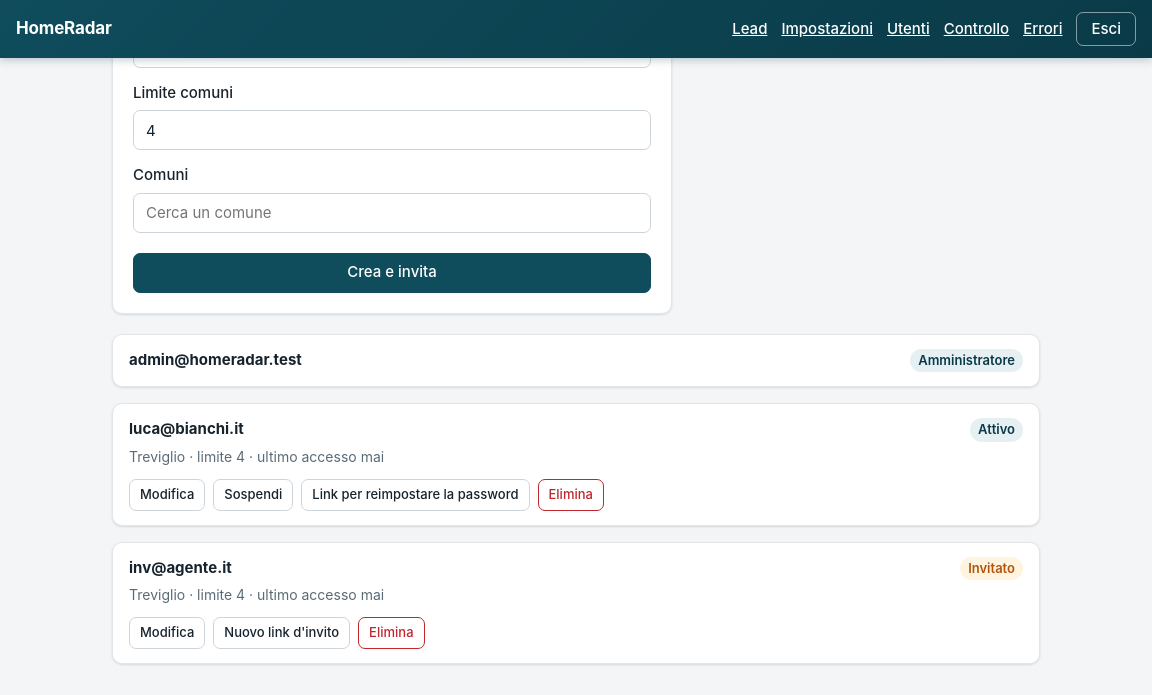
Test: admin utenti › link di reimpostazione per un attivo, nuovo invito per un invitato
(page scrolled)
Click the button "Link per reimpostare la password". click: (415, 494)
box: x1=301 y1=478 x2=530 y2=510
(page scrolled)
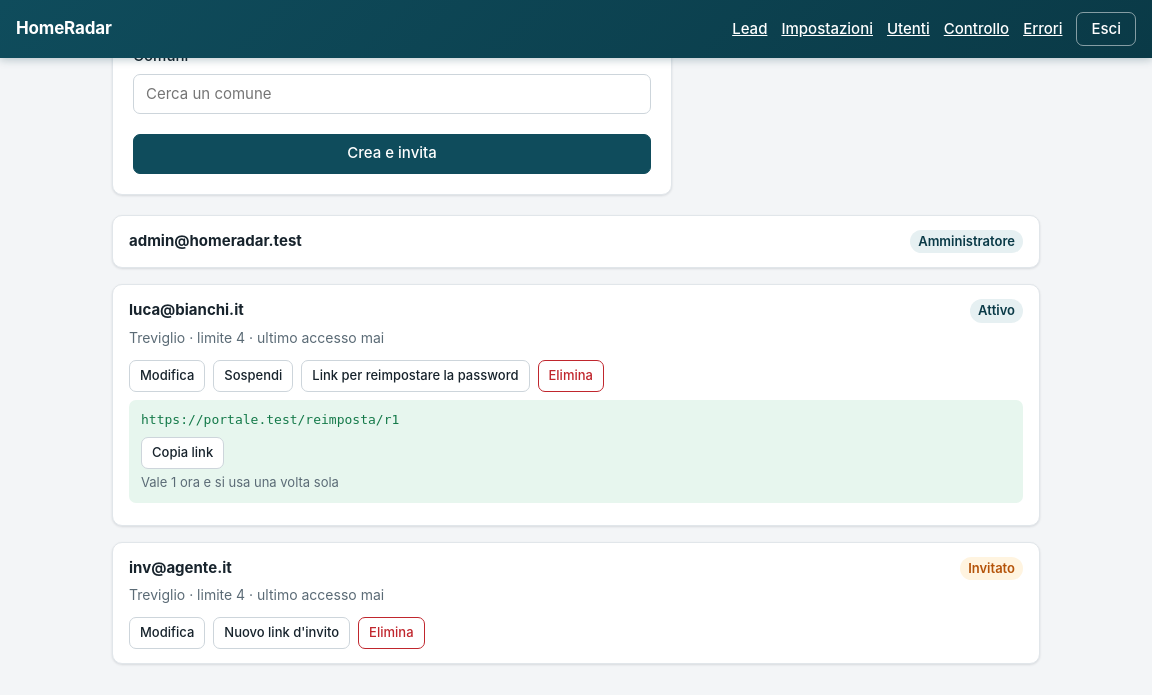
Expected: the text "https://portale.test/reimposta/r1" is shown, x1=141 y1=412 x2=399 y2=426
Expected: the text "Vale 1 ora e si usa una volta sola" is shown, x1=141 y1=474 x2=339 y2=490
Click the button "Nuovo link d'invito". click: (282, 633)
box: x1=213 y1=617 x2=350 y2=649
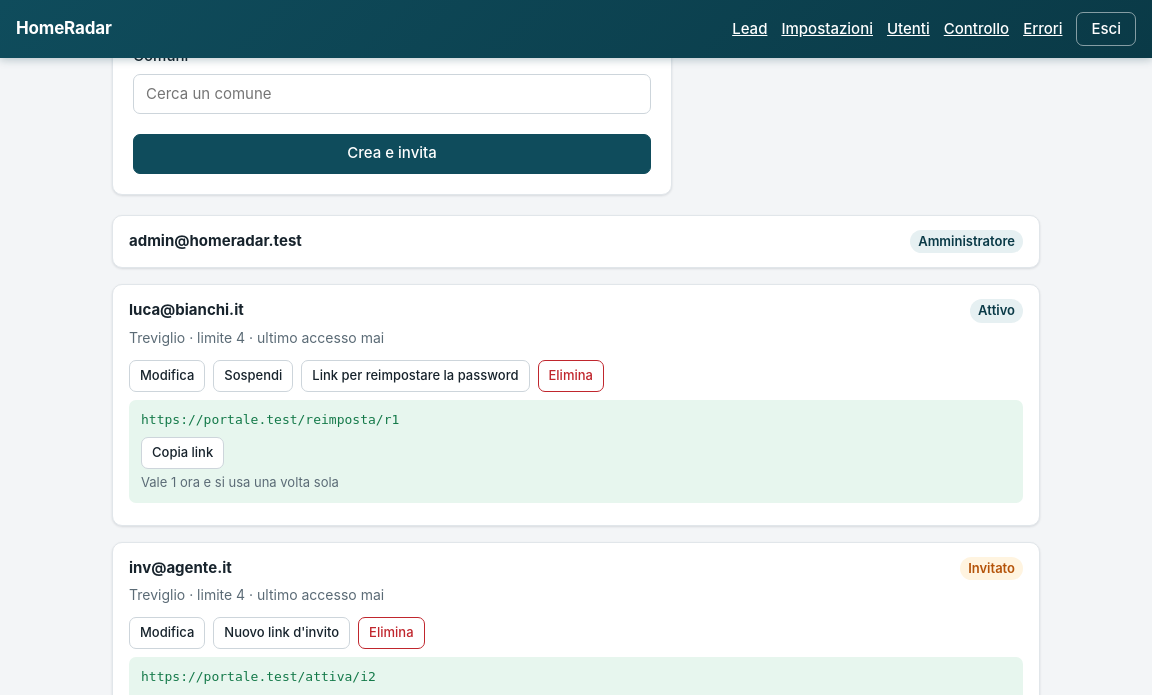
Expected: the text "https://portale.test/attiva/i2" is shown, x1=141 y1=669 x2=376 y2=684
